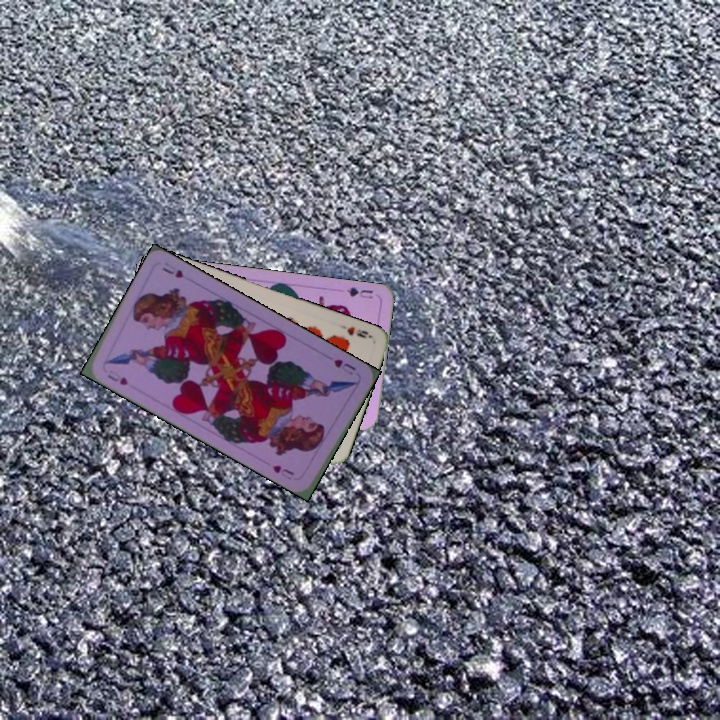GU: (343, 283, 376, 301)
H9: (335, 320, 374, 341)
HU: (330, 355, 359, 378), (103, 366, 131, 388)
